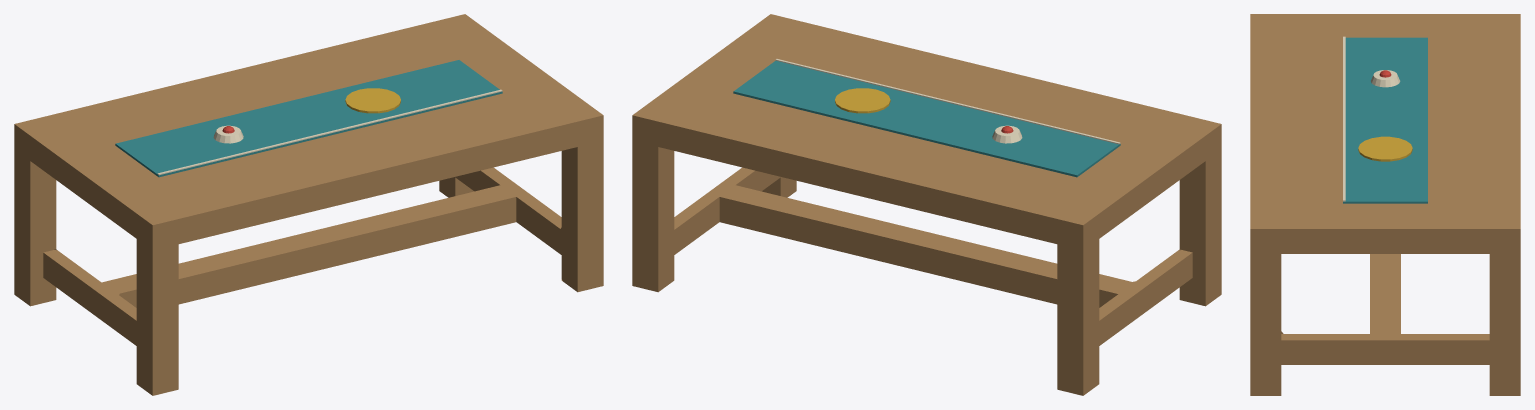
Rendered from table.glb.
3 views of the same model, side by side, from view 1: azimuth 30°, elevation 25°; view 2: azimuth 150°, elevation 25°; view 3: azimuth 270°, elevation 25° (orthographic). The views are drawn at different scales.
Parts seen in each view (by area): view 1: table(Clone); view 2: table(Clone); view 3: table(Clone).
Boxes of the visible parts, x1=… form: table(Clone): x1=14, y1=14, x2=603, y2=395; table(Clone): x1=632, y1=14, x2=1221, y2=395; table(Clone): x1=1250, y1=14, x2=1520, y2=395.
Bounding box in the file's own units: 0.8415 × 0.3267 × 0.4474.
